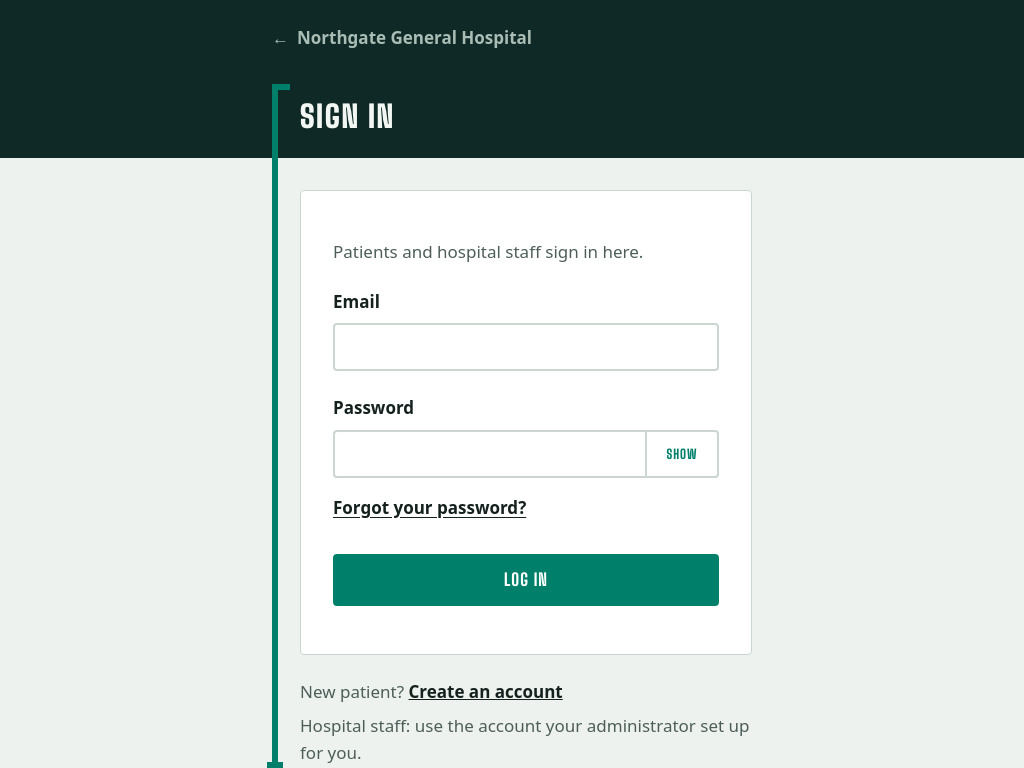
Sign-in: positive cases (TC) › TC-06 Show reveals the password and Hide masks it again
This screenshot has width=1024, height=768.
Type "P@ssw0rd!" into the password field labelled "Password" at [526, 454], box [333,430,719,478]
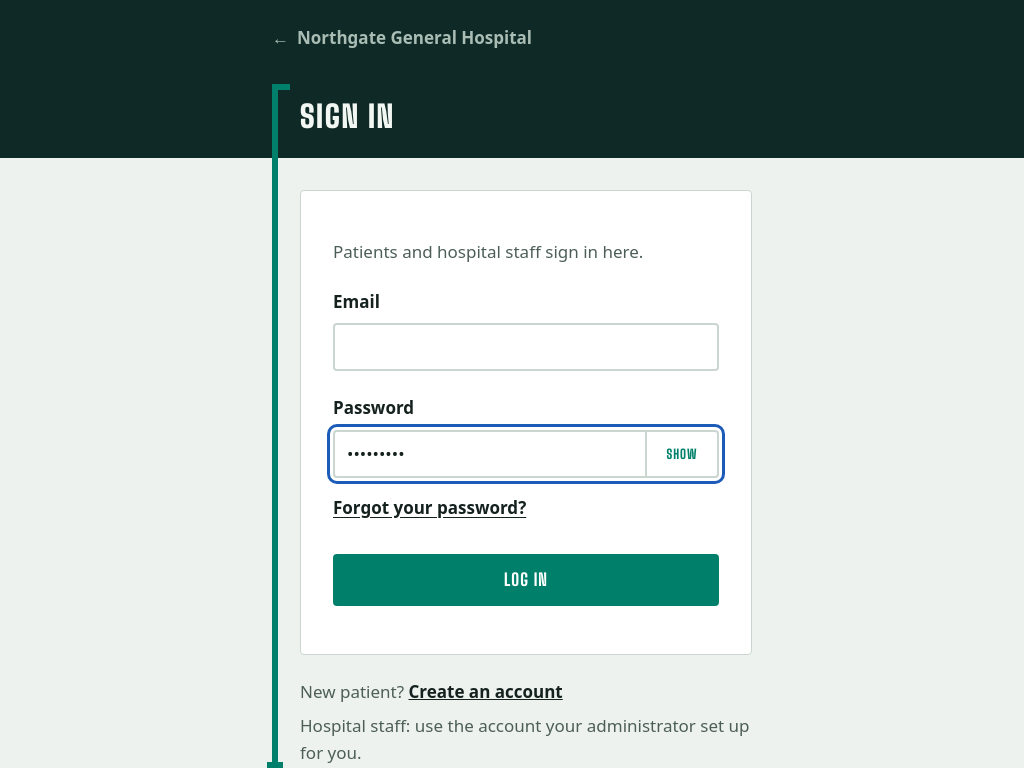
Click the button with aria-label "Show password" at [681, 454], box [645,432,717,476]
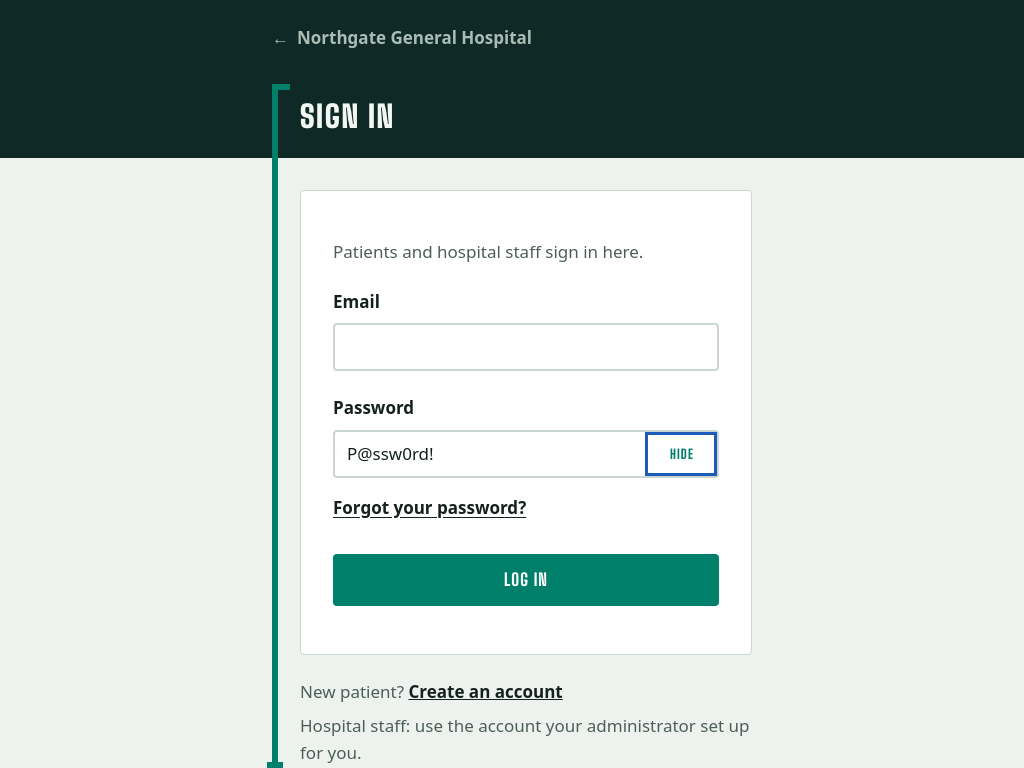
Now the field labelled "Password" shows its text, box [333,430,719,478]
Click the button with aria-label "Hide password" at [681, 454], box [645,432,717,476]
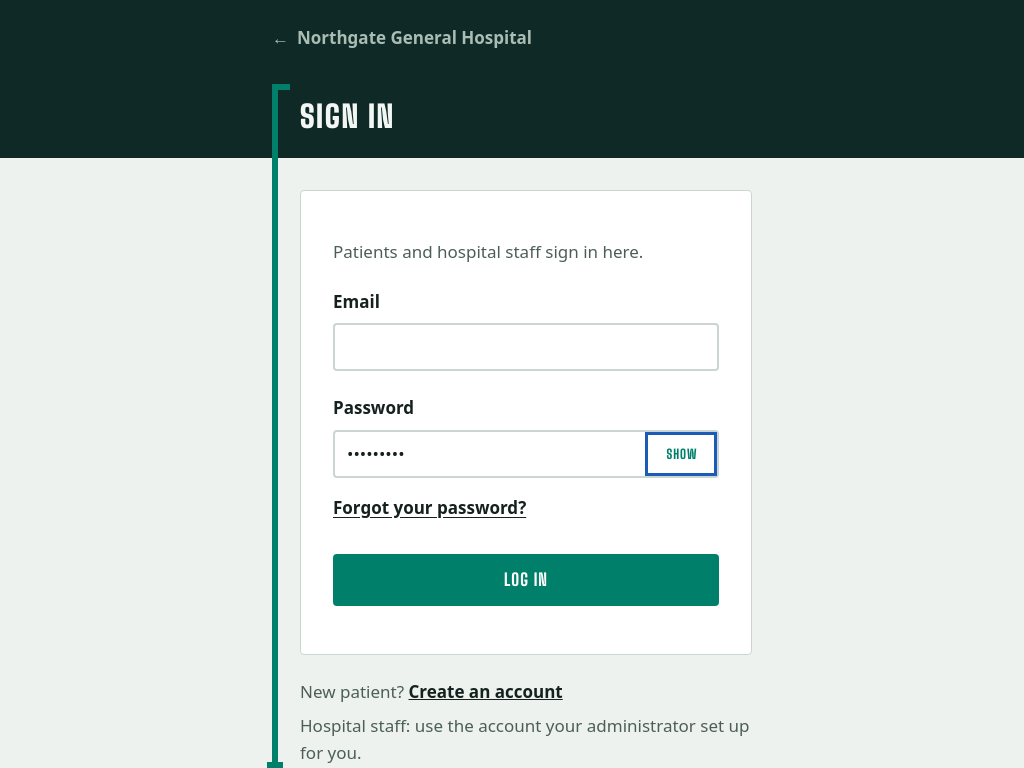
Now the password field labelled "Password" hides its text, box [333,430,719,478]
